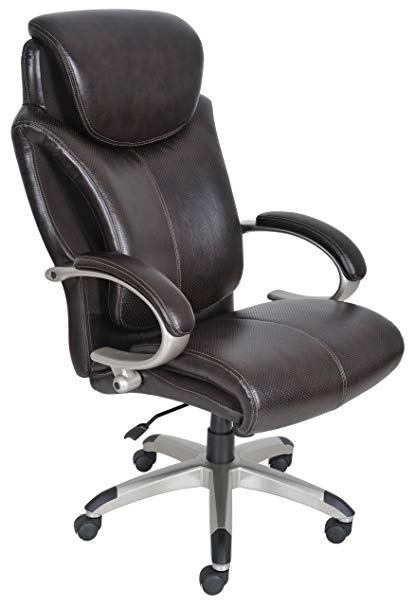chairs: (12, 10, 404, 597)
